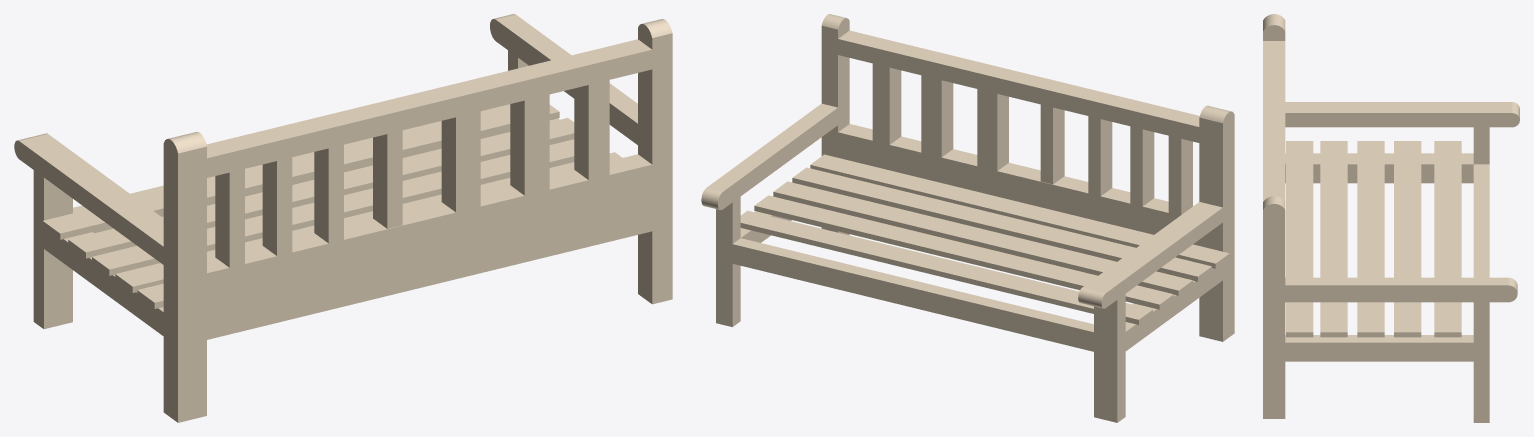
3 renders of one model, left to right at view 1: azimuth 30°, elevation 25°; view 2: azimuth 150°, elevation 25°; view 3: azimuth 270°, elevation 25°, orthographic. The views are drawn at different scales.
Parts seen in each view (by area): view 1: mesh5_mesh5-geometry, mesh1_mesh1-geometry, mesh3_mesh3-geometry, mesh3_mesh3-geometry_4, mesh3_mesh3-geometry_2, mesh3_mesh3-geometry_3; view 2: mesh5_mesh5-geometry, mesh1_mesh1-geometry, mesh3_mesh3-geometry_2, mesh3_mesh3-geometry, mesh3_mesh3-geometry_4, mesh3_mesh3-geometry_3, mesh3_mesh3-geometry_1; view 3: mesh5_mesh5-geometry, mesh1_mesh1-geometry, mesh3_mesh3-geometry, mesh3_mesh3-geometry_3, mesh3_mesh3-geometry_4, mesh3_mesh3-geometry_1, mesh3_mesh3-geometry_2.
Boxes of the visible parts, x1,y1,x2,y2 form: mesh5_mesh5-geometry: (14, 14, 672, 422); mesh1_mesh1-geometry: (44, 104, 652, 339); mesh3_mesh3-geometry: (42, 105, 559, 239); mesh3_mesh3-geometry_4: (92, 139, 574, 275); mesh3_mesh3-geometry_2: (68, 118, 574, 258); mesh3_mesh3-geometry_3: (115, 152, 622, 292); mesh5_mesh5-geometry: (701, 14, 1234, 422); mesh1_mesh1-geometry: (732, 124, 1222, 351); mesh3_mesh3-geometry_2: (754, 195, 1173, 309); mesh3_mesh3-geometry: (740, 210, 1152, 324); mesh3_mesh3-geometry_4: (773, 181, 1192, 295); mesh3_mesh3-geometry_3: (792, 167, 1211, 281); mesh3_mesh3-geometry_1: (810, 154, 1229, 268); mesh5_mesh5-geometry: (1263, 14, 1519, 422); mesh1_mesh1-geometry: (1285, 153, 1489, 361); mesh3_mesh3-geometry: (1434, 141, 1461, 337); mesh3_mesh3-geometry_3: (1320, 141, 1347, 337); mesh3_mesh3-geometry_4: (1357, 141, 1384, 337); mesh3_mesh3-geometry_1: (1286, 141, 1313, 337); mesh3_mesh3-geometry_2: (1394, 141, 1421, 337).
Bounding box in the file's own units: 0.7893 × 0.4231 × 0.4449.
